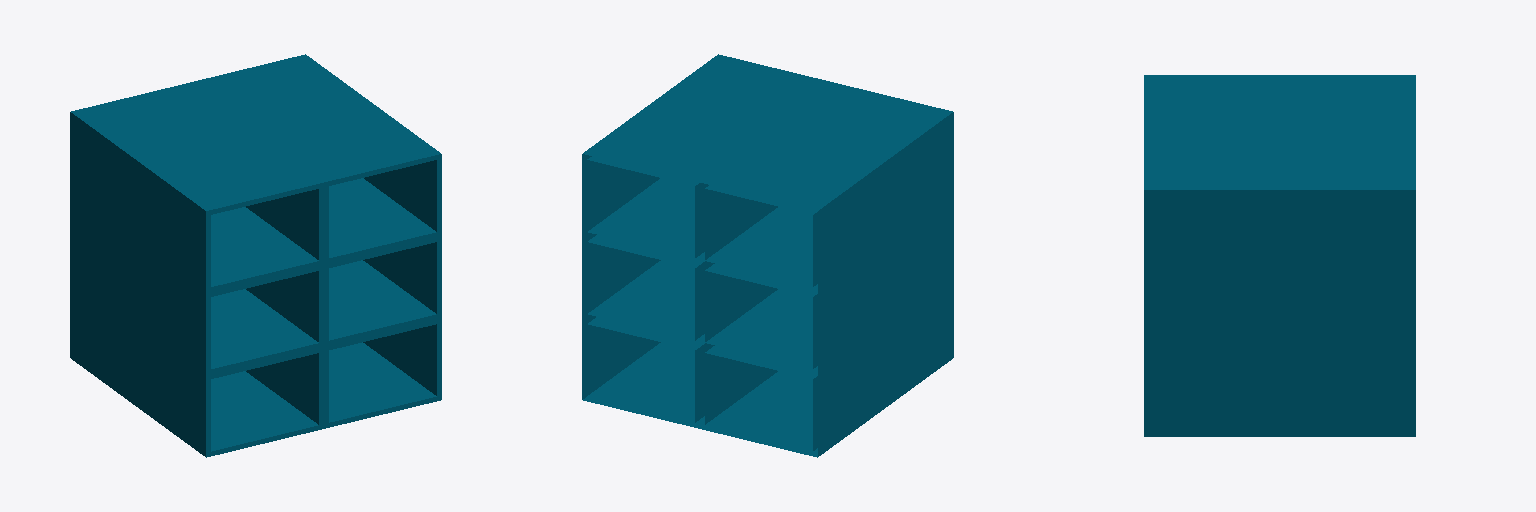
File: Closet.obj
The picture shows the model from 3 angles: view 1: azimuth 30°, elevation 25°; view 2: azimuth 150°, elevation 25°; view 3: azimuth 270°, elevation 25°; orthographic projection.
Visible parts, largest first — view 1: Box001; view 2: Box001; view 3: Box001.
Part boxes in pixels (left/top/right/bottom): Box001: left=70, top=54, right=441, bottom=457; Box001: left=582, top=54, right=953, bottom=457; Box001: left=1144, top=75, right=1415, bottom=436.
Size of the model in its own units: 100 by 100 by 100.